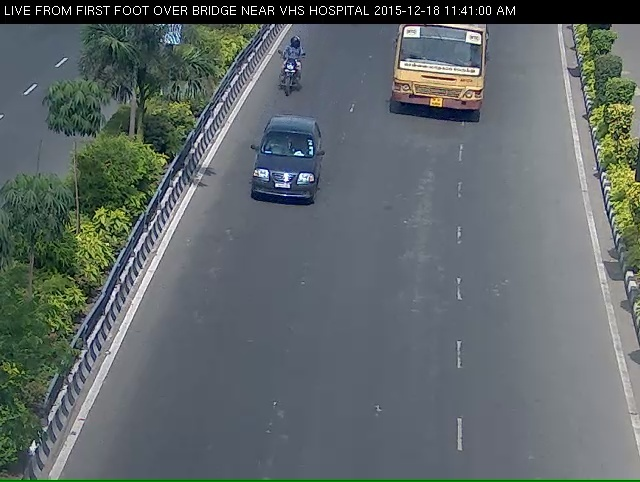Bus: (388, 16, 499, 137)
Car: (246, 128, 327, 226)
Person: (269, 41, 308, 105)
